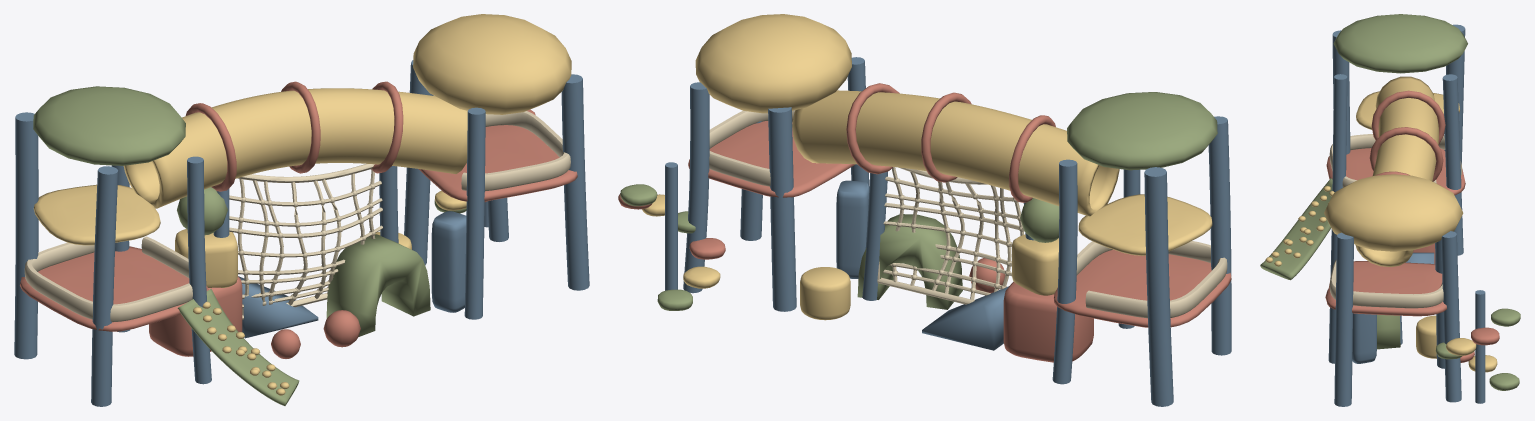
Rendered from playroom-playground-v2.glb.
The picture shows the model from 3 angles, left to right: view 1: azimuth 30°, elevation 25°; view 2: azimuth 150°, elevation 25°; view 3: azimuth 270°, elevation 25°; orthographic projection. The views are drawn at different scales.
Visible parts, largest first — view 1: PlaygroundTowerV2 body, PlaygroundSoftClusterV2 body, PlaygroundNetV2 body; view 2: PlaygroundTowerV2 body, PlaygroundSoftClusterV2 body, PlaygroundNetV2 body; view 3: PlaygroundTowerV2 body, PlaygroundSoftClusterV2 body.
Boxes of the visible parts, <box> form: PlaygroundTowerV2 body: <box>14,14,589,406</box>; PlaygroundSoftClusterV2 body: <box>149,187,466,358</box>; PlaygroundNetV2 body: <box>213,163,398,319</box>; PlaygroundTowerV2 body: <box>618,14,1231,406</box>; PlaygroundSoftClusterV2 body: <box>800,180,1093,362</box>; PlaygroundNetV2 body: <box>862,167,1033,304</box>; PlaygroundTowerV2 body: <box>1260,14,1520,406</box>; PlaygroundSoftClusterV2 body: <box>1325,243,1436,363</box>.
Bounding box in the file's own units: 20.84 × 9.51 × 10.83.
